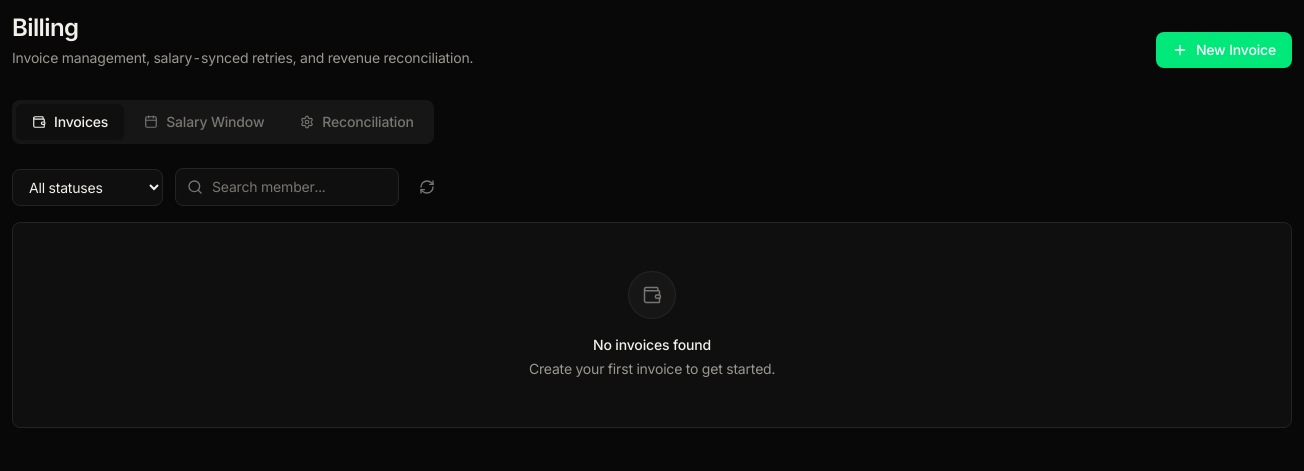
Test: BillingClient — Tab navigation › switches to Salary Window tab and loads data
Click the button "Salary Window" at x=204, y=122, box [128,104,280,140]
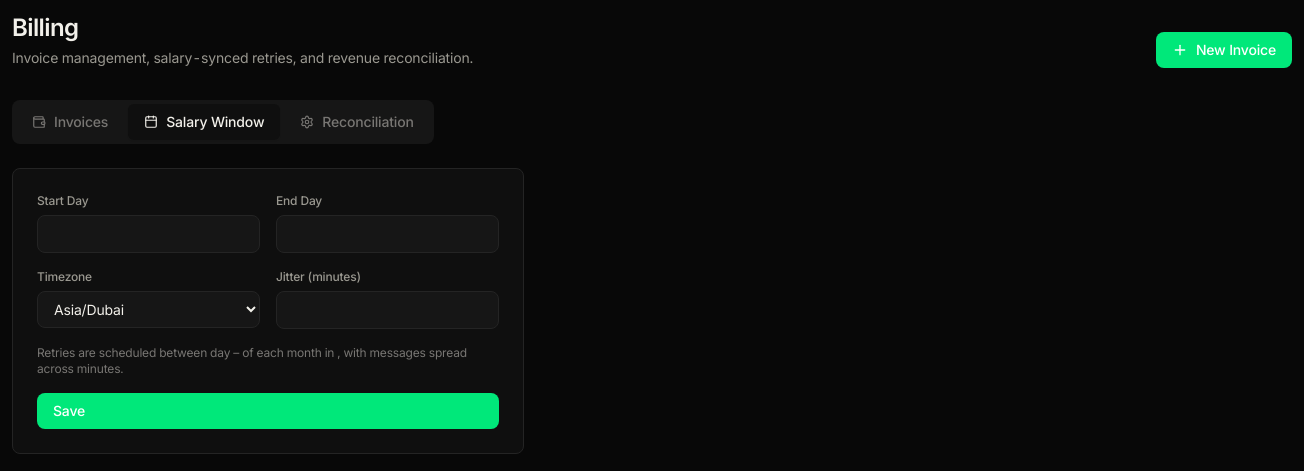
Result: the text "Start Day" is shown at [37,193,88,208]
